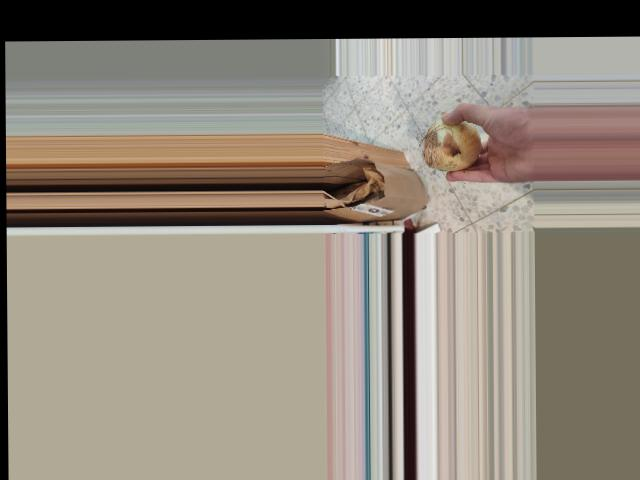onion: (420, 113, 487, 171)
